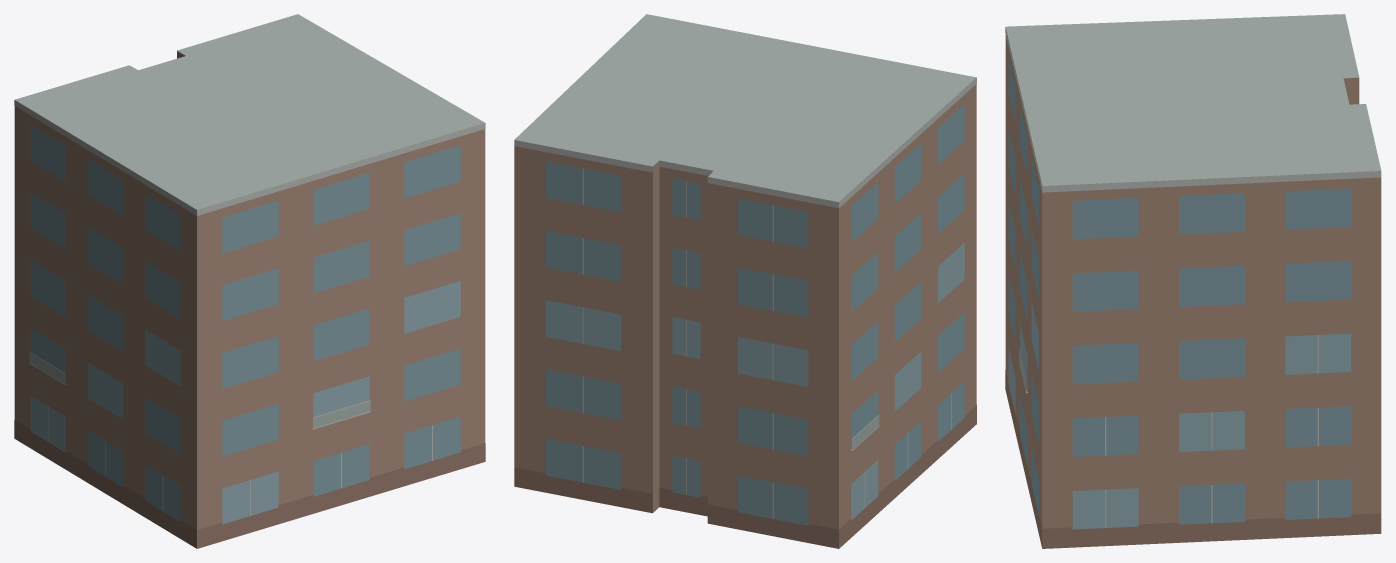
The model's file is survey-upis-32654918.glb.
The picture shows the model from 3 angles, left to right: view 1: azimuth 30°, elevation 25°; view 2: azimuth 150°, elevation 25°; view 3: azimuth 270°, elevation 25°; orthographic projection. The views are drawn at different scales.
Visible parts, largest first — view 1: survey-upis-32654918.tmp; view 2: survey-upis-32654918.tmp; view 3: survey-upis-32654918.tmp.
Part boxes in pixels (<box>): survey-upis-32654918.tmp: <box>14,14,485,548</box>; survey-upis-32654918.tmp: <box>514,14,976,548</box>; survey-upis-32654918.tmp: <box>1005,14,1381,548</box>.
Bounding box in the file's own units: 14.06 × 13.8 × 12.97.
